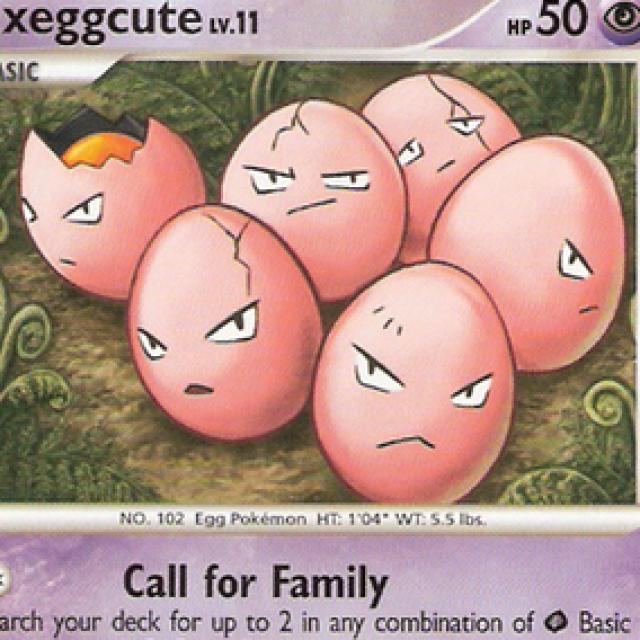Exeggcute: (11, 79, 631, 504)
